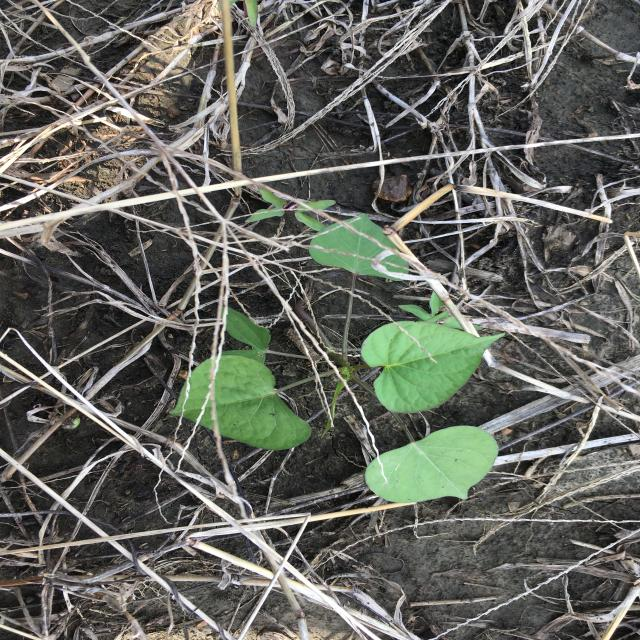MorningGlory: (167, 185, 511, 506)
